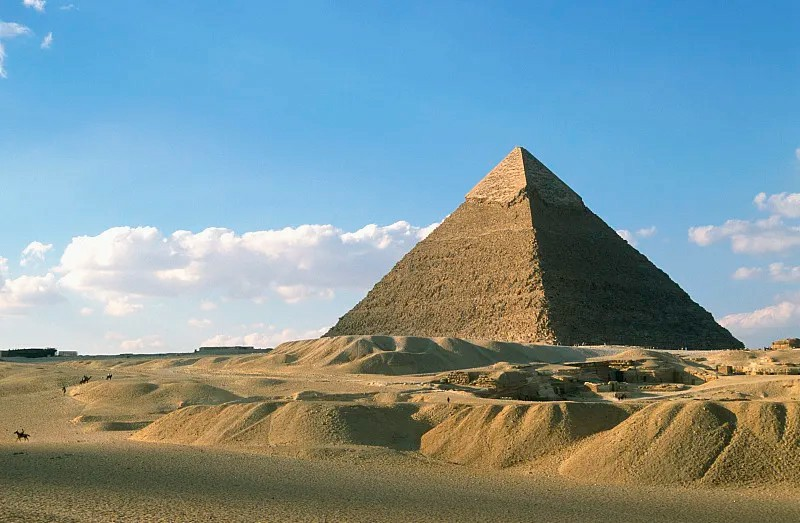Pyramid: (323, 147, 747, 347)
